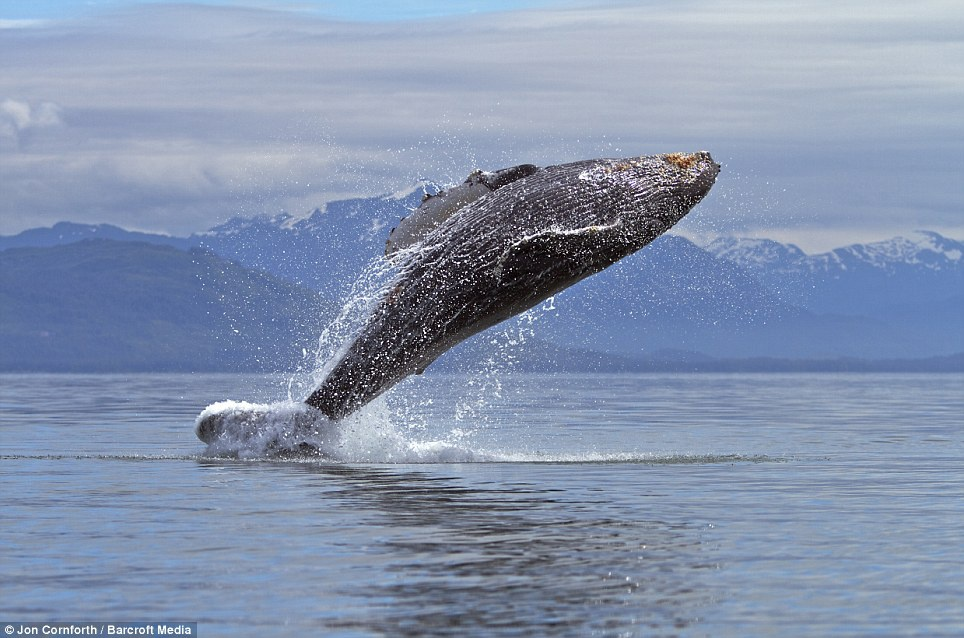humpback: (304, 146, 720, 404)
